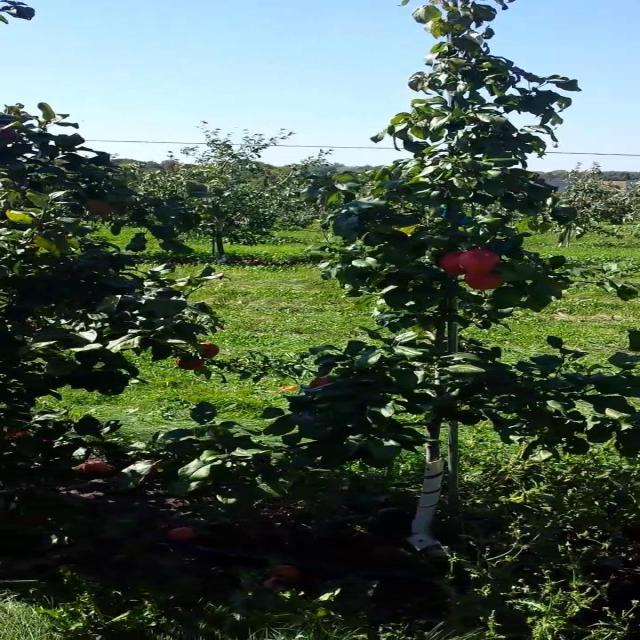apple: (461, 252, 501, 272), (468, 272, 505, 292), (440, 252, 468, 276), (84, 200, 114, 216), (198, 344, 220, 360), (177, 360, 206, 372), (312, 380, 334, 388), (6, 128, 16, 140), (276, 388, 299, 392)
